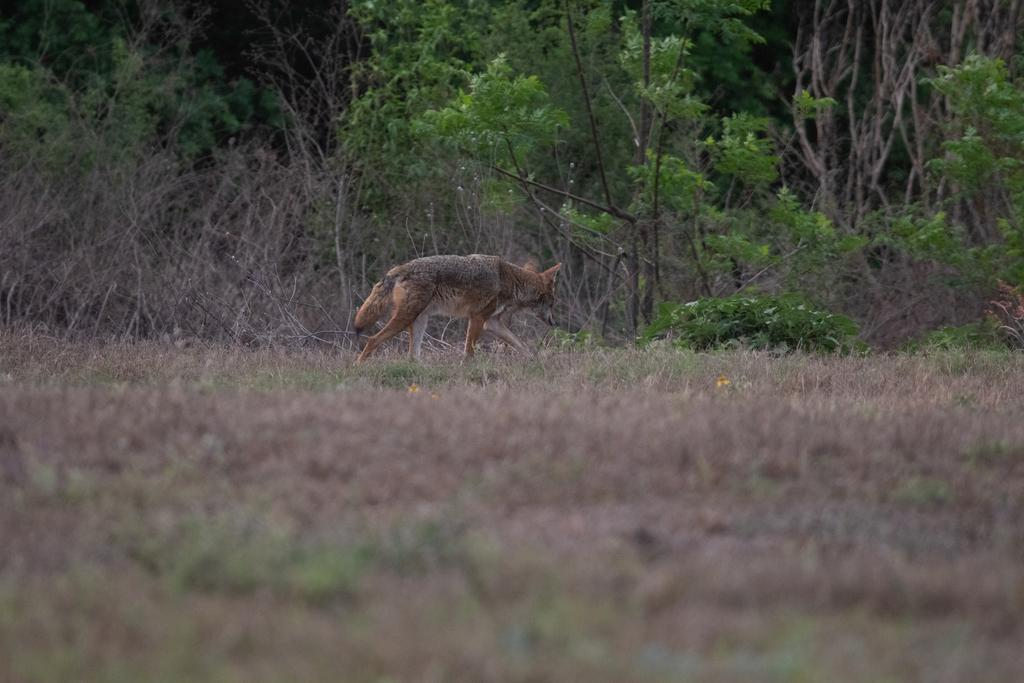Coyote: (345, 251, 565, 369)
